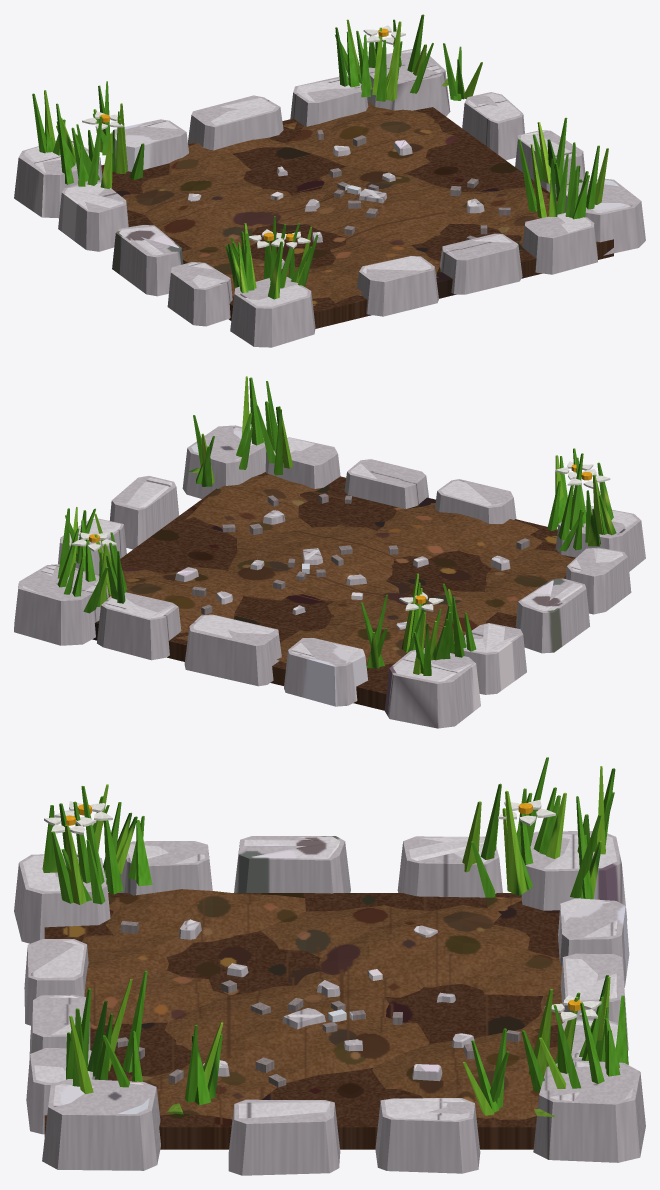
Rendered from PlantableArea_Textured.obj.
3 renders of one model, top to bottom at view 1: azimuth 30°, elevation 25°; view 2: azimuth 150°, elevation 25°; view 3: azimuth 270°, elevation 25°, orthographic. The views are drawn at different scales.
Visible parts, largest first — view 1: Border, Soil, SoilClods, Grass, BorderHighlight, GrassLight, Pebbles, Flowers; view 2: Border, Soil, SoilClods, Grass, BorderHighlight, GrassLight, Pebbles, Flowers; view 3: Border, Soil, SoilClods, Grass, BorderHighlight, GrassLight, Pebbles, Flowers.
Boxes of the visible parts, x1,y1,x2,y2 form: Border: (14, 49, 645, 347); Soil: (122, 102, 557, 302); SoilClods: (101, 107, 613, 328); Grass: (32, 14, 599, 299); BorderHighlight: (24, 50, 632, 306); GrassLight: (44, 19, 608, 288); Pebbles: (270, 130, 510, 240); Flowers: (82, 25, 405, 248); Border: (14, 425, 645, 728); Soil: (108, 472, 575, 664); SoilClods: (92, 476, 575, 710); Grass: (57, 377, 616, 675); BorderHighlight: (22, 427, 637, 681); GrassLight: (69, 376, 603, 674); Pebbles: (192, 493, 529, 614); Flowers: (72, 461, 610, 611); Border: (14, 831, 645, 1175); Soil: (81, 889, 562, 1119); SoilClods: (44, 893, 559, 1149); Grass: (42, 757, 628, 1112); BorderHighlight: (23, 834, 632, 1120); GrassLight: (64, 766, 610, 1115); Pebbles: (116, 921, 520, 1087); Flowers: (44, 800, 601, 1021).
Size of the model in its own units: 2.24 by 0.5294 by 2.05.
10 materials, 10 textured.
